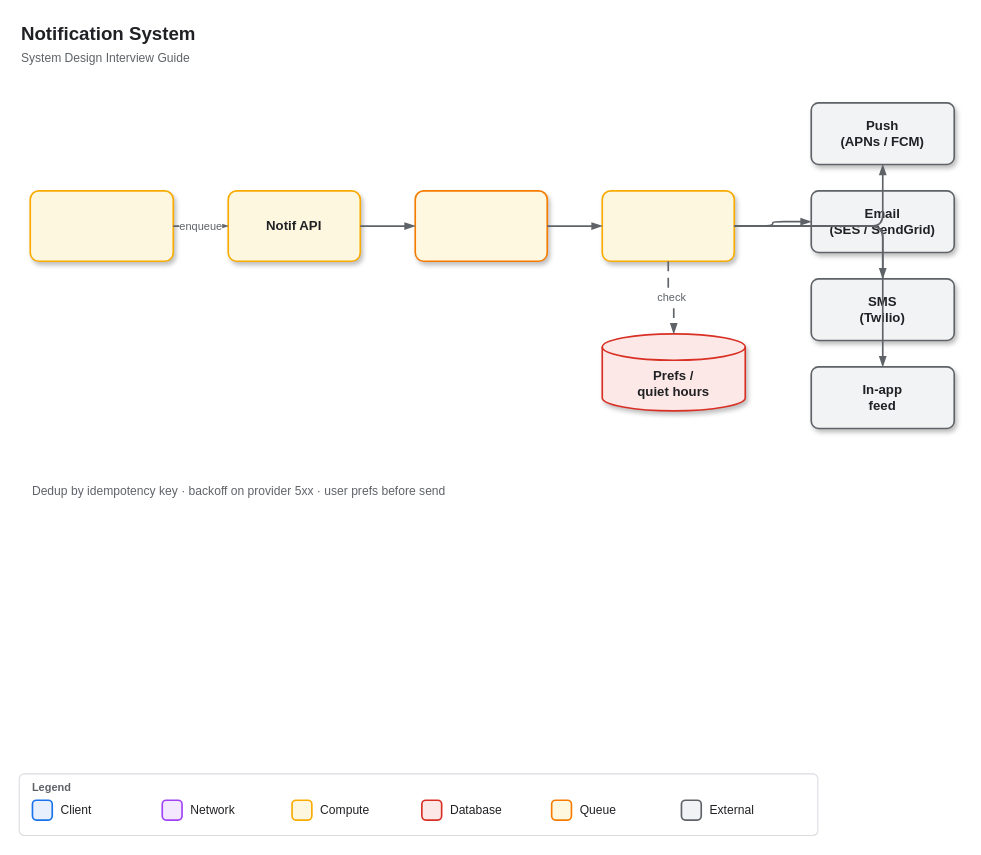
Some shapes in this 981 by 855 pixel diagram are drawn without their labels. Each missing label, with the centre of its shape:
"Priority queues" goes at [482,227].
"Producers (services)" goes at [102,227].
"Workers" goes at [669,227].
